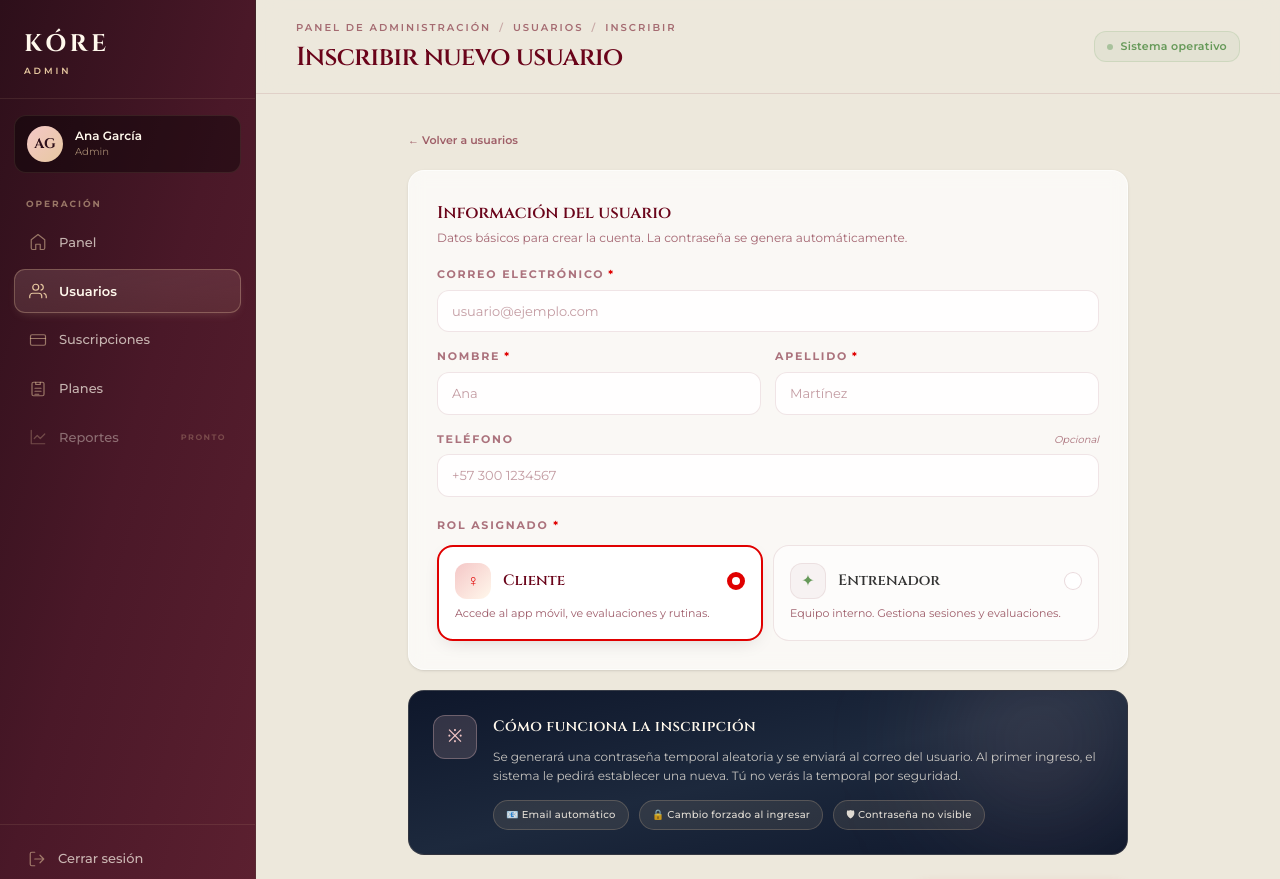
Test: AdminUserNewPage › shows a server error when creation fails
Step 1. Type "nuevo@example.com" into the field with placeholder "usuario@ejemplo.com" → [768, 311], box [437,290,1099,332]
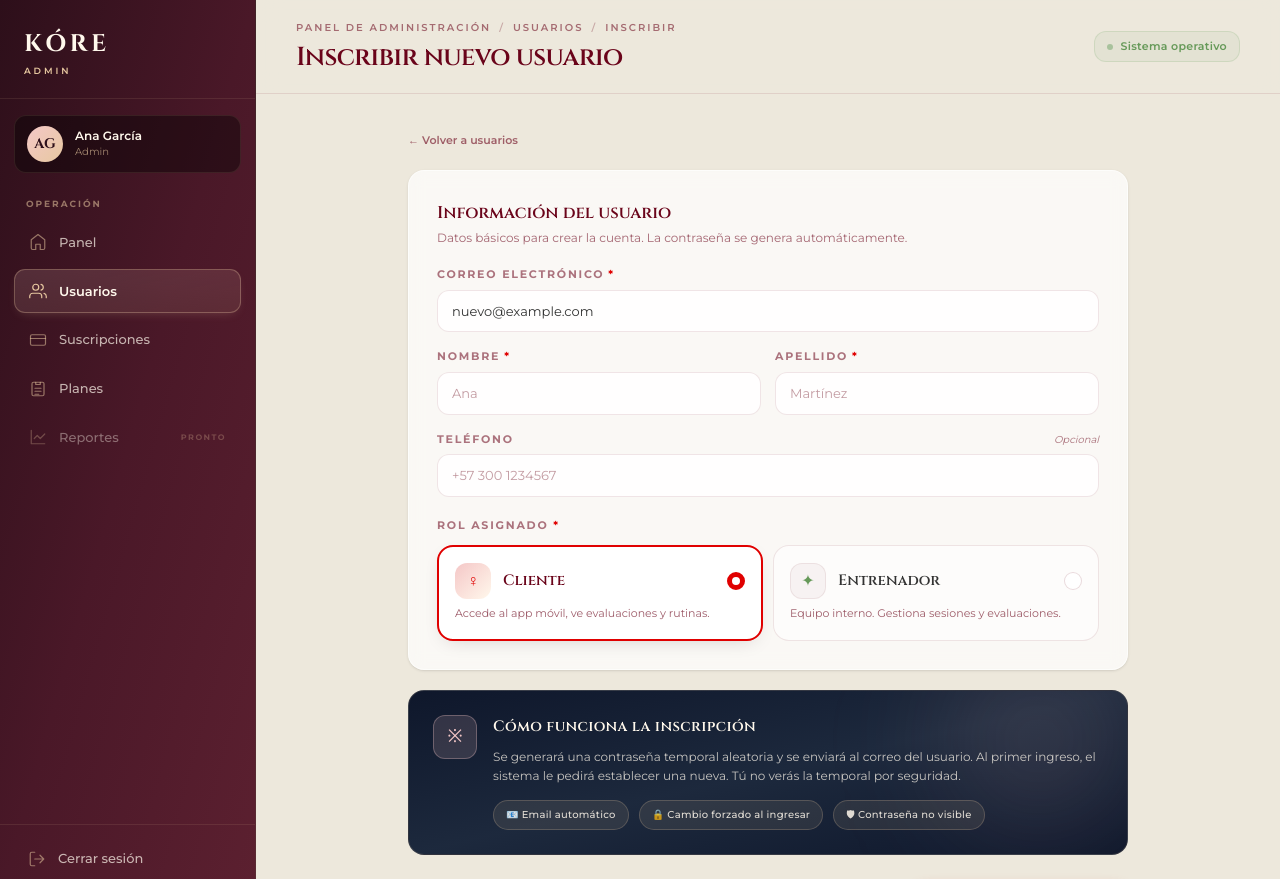
Step 2. Type "Nuevo" into the field with placeholder "Ana" → [599, 393], box [437,372,761,415]
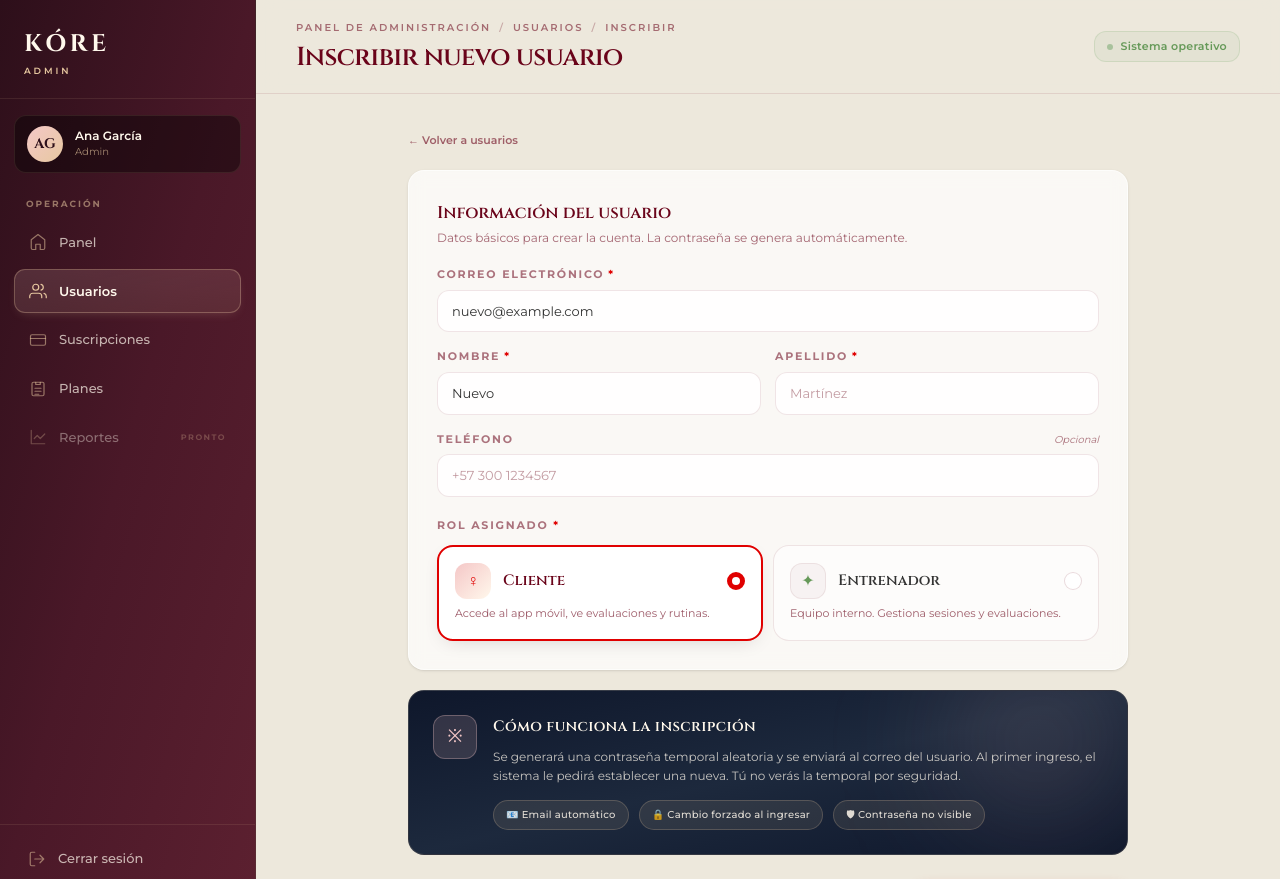
Step 3. Type "Usuario" into the field with placeholder "Martínez" → [937, 393], box [775,372,1099,415]
(page scrolled)
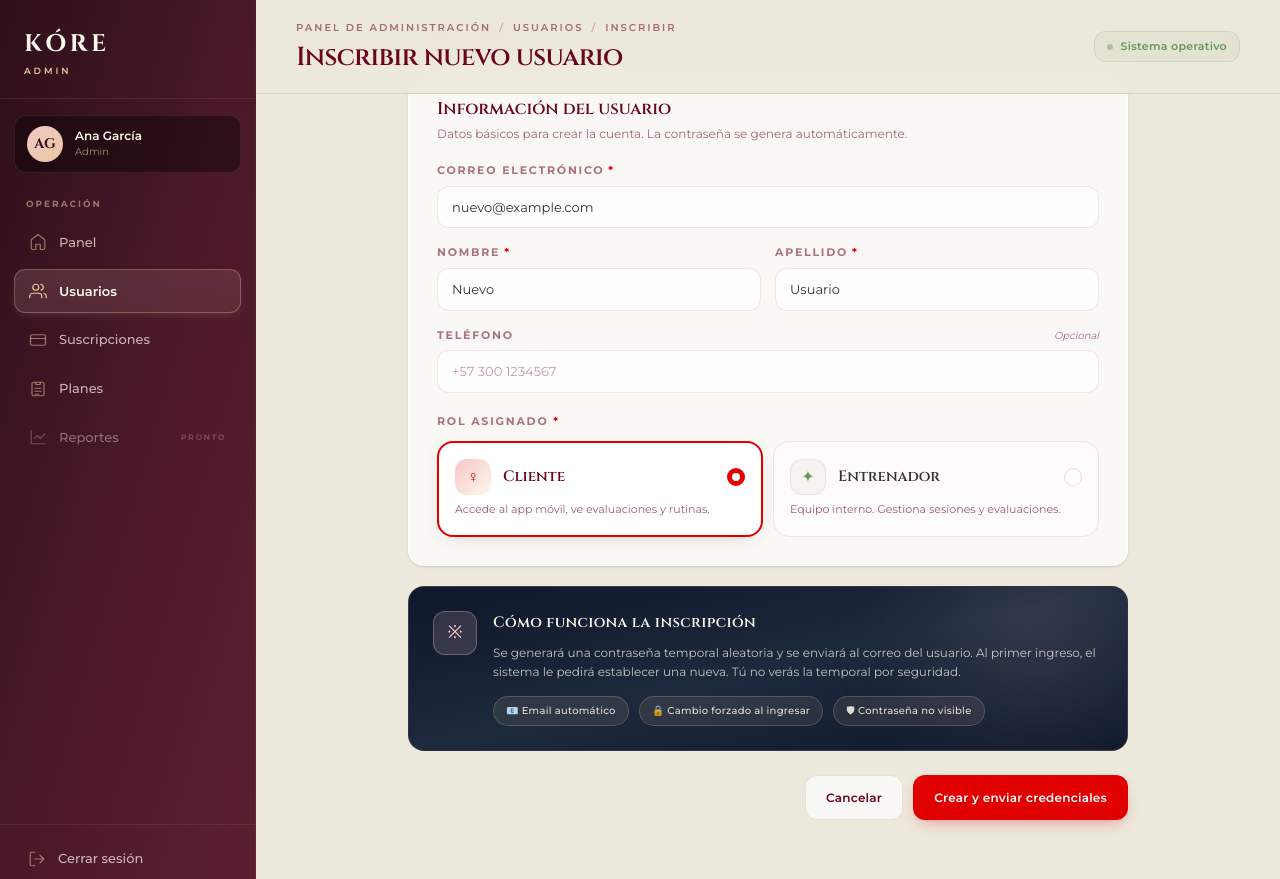
Step 4. Click the button "Crear y enviar credenciales" → [1021, 797], box [913,775,1128,820]
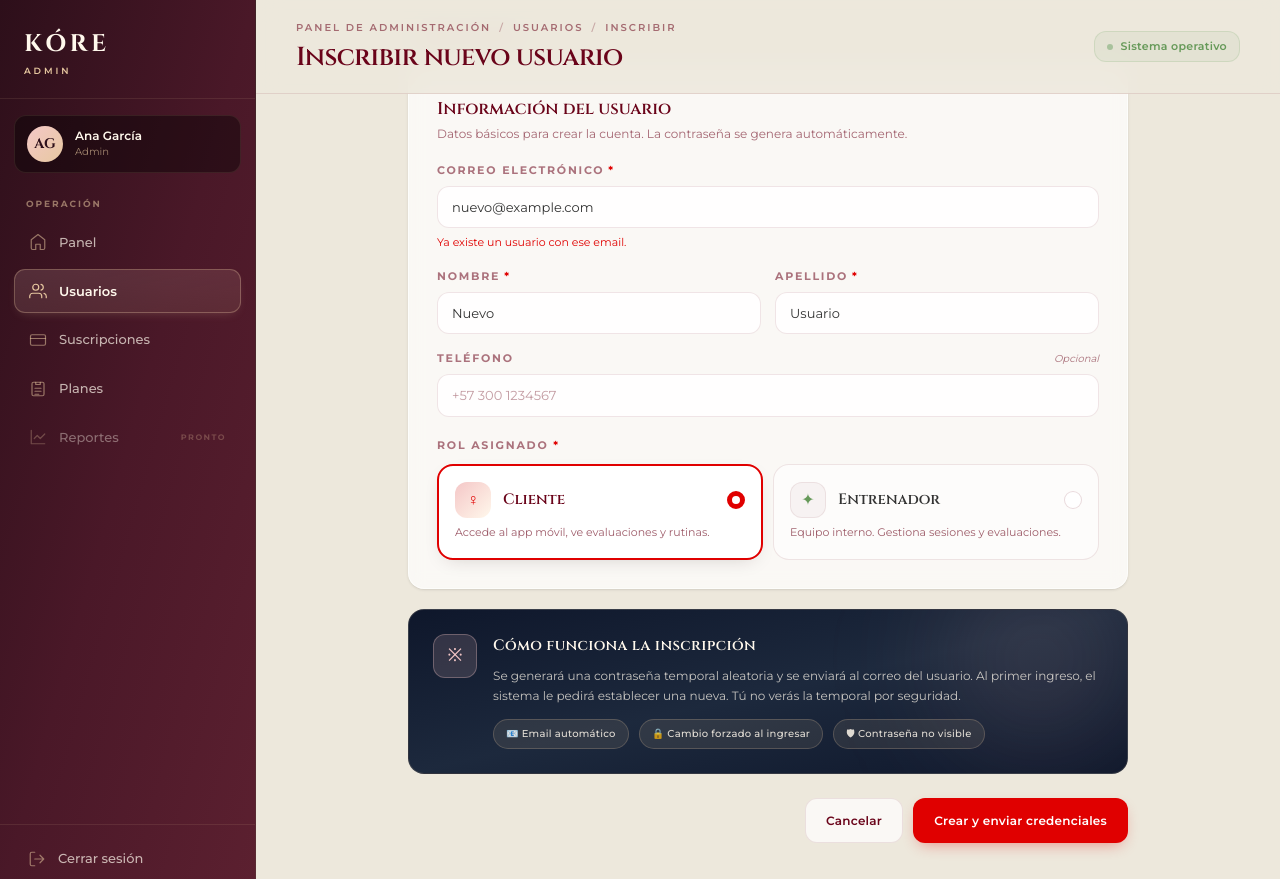
Now the text "Ya existe un usuario con ese email." is shown, box [437,235,626,249]
